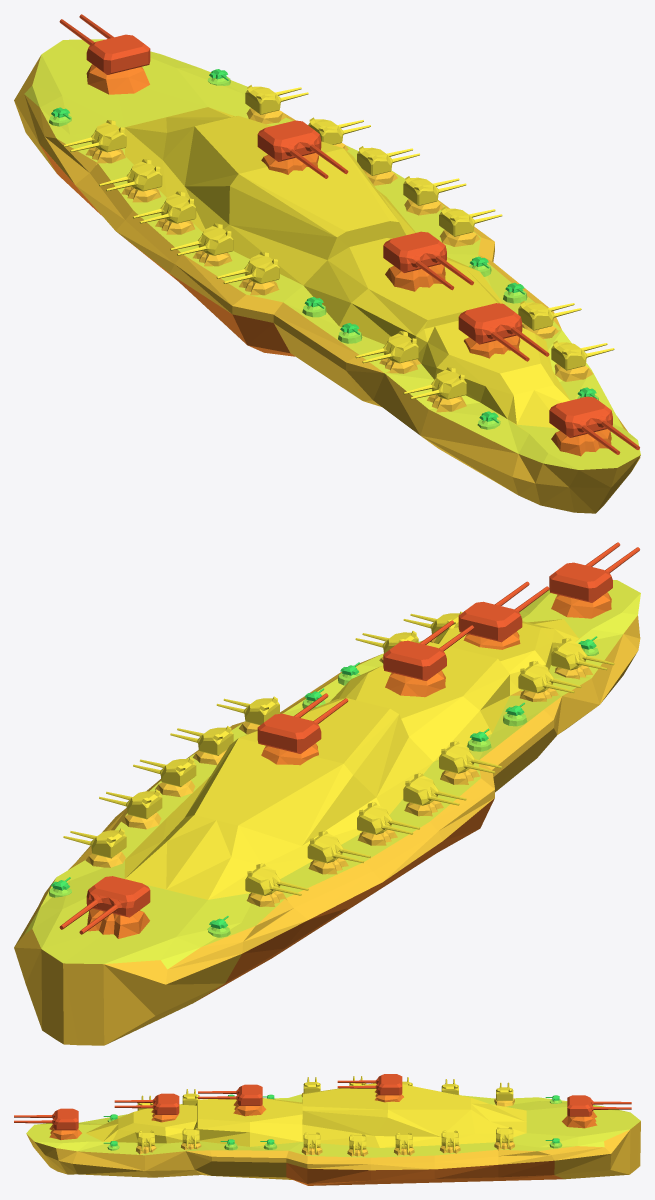
File: WW_Imperial_ArtilleryCruiser_R02_Barbet.fbx
3 renders of one model, top to bottom at view 1: azimuth 30°, elevation 25°; view 2: azimuth 150°, elevation 25°; view 3: azimuth 270°, elevation 25°, orthographic. The views are drawn at different scales.
Parts seen in each view (by area): view 1: Barbet_Cruiser_150m_Cube, WW_Turret_254mm_Twin_on_Barbet_Base_W_L, WW_Turret_254mm_Twin_on_Barbet_Base_W_L_003, WW_Turret_254mm_Twin_on_Barbet_Base_W_L_002, WW_Turret_254mm_Twin, WW_Turret_254mm_Twin_on_Barbet_Base_W_L_004, Barbet_Base_W_L.004, WW_Turret_100mm_Twin_PMK_on_Barbet_Base_W_M_011, WW_Turret_100mm_Twin_PMK_on_Barbet_Base_W_M_010, WW_Turret_100mm_Twin_PMK_on_Barbet_Base_W_M_012, WW_Turret_100mm_Twin_PMK, WW_Turret_100mm_Twin_PMK_on_Barbet_Base_W_M_008 (+11 smaller); view 2: Barbet_Cruiser_150m_Cube, WW_Turret_254mm_Twin_on_Barbet_Base_W_L_004, WW_Turret_254mm_Twin_on_Barbet_Base_W_L_003, WW_Turret_254mm_Twin, WW_Turret_254mm_Twin_on_Barbet_Base_W_L_002, WW_Turret_254mm_Twin_on_Barbet_Base_W_L, Barbet_Base_W_L.004, Barbet_Base_W_L.002, WW_Turret_100mm_Twin_PMK_on_Barbet_Base_W_M_012, Barbet_Base_W_L.001, WW_Turret_100mm_Twin_PMK_on_Barbet_Base_W_M_005, WW_Turret_100mm_Twin_PMK_on_Barbet_Base_W_M_008 (+10 smaller); view 3: Barbet_Cruiser_150m_Cube, WW_Turret_254mm_Twin, WW_Turret_254mm_Twin_on_Barbet_Base_W_L_003, WW_Turret_254mm_Twin_on_Barbet_Base_W_L, WW_Turret_254mm_Twin_on_Barbet_Base_W_L_004, WW_Turret_254mm_Twin_on_Barbet_Base_W_L_002, Barbet_Base_W_L.004, Barbet_Base_W_L.002, Barbet_Base_W_L.001, WW_Turret_100mm_Twin_PMK_on_Barbet_Base_W_M_006, WW_Turret_100mm_Twin_PMK_on_Barbet_Base_W_M_001, WW_Turret_100mm_Twin_PMK_on_Barbet_Base_W_M_002 (+9 smaller).
Part boxes in pixels (left/top/right/bottom): Barbet_Cruiser_150m_Cube: left=14, top=39, right=640, bottom=513; WW_Turret_254mm_Twin_on_Barbet_Base_W_L: left=458, top=303, right=549, bottom=361; WW_Turret_254mm_Twin_on_Barbet_Base_W_L_003: left=257, top=120, right=348, bottom=178; WW_Turret_254mm_Twin_on_Barbet_Base_W_L_002: left=383, top=231, right=473, bottom=290; WW_Turret_254mm_Twin: left=549, top=396, right=639, bottom=454; WW_Turret_254mm_Twin_on_Barbet_Base_W_L_004: left=59, top=14, right=150, bottom=74; Barbet_Base_W_L.004: left=86, top=64, right=149, bottom=94; WW_Turret_100mm_Twin_PMK_on_Barbet_Base_W_M_011: left=133, top=191, right=196, bottom=223; WW_Turret_100mm_Twin_PMK_on_Barbet_Base_W_M_010: left=170, top=223, right=233, bottom=255; WW_Turret_100mm_Twin_PMK_on_Barbet_Base_W_M_012: left=99, top=159, right=162, bottom=191; WW_Turret_100mm_Twin_PMK: left=403, top=367, right=466, bottom=399; WW_Turret_100mm_Twin_PMK_on_Barbet_Base_W_M_008: left=355, top=331, right=418, bottom=363; Barbet_Cruiser_150m_Cube: left=14, top=580, right=640, bottom=1045; WW_Turret_254mm_Twin_on_Barbet_Base_W_L_004: left=59, top=876, right=150, bottom=934; WW_Turret_254mm_Twin_on_Barbet_Base_W_L_003: left=257, top=693, right=348, bottom=753; WW_Turret_254mm_Twin: left=549, top=542, right=639, bottom=602; WW_Turret_254mm_Twin_on_Barbet_Base_W_L_002: left=383, top=620, right=473, bottom=680; WW_Turret_254mm_Twin_on_Barbet_Base_W_L: left=458, top=581, right=549, bottom=642; Barbet_Base_W_L.004: left=87, top=908, right=149, bottom=938; Barbet_Base_W_L.002: left=385, top=670, right=445, bottom=697; WW_Turret_100mm_Twin_PMK_on_Barbet_Base_W_M_012: left=307, top=831, right=370, bottom=863; Barbet_Base_W_L.001: left=551, top=592, right=611, bottom=618; WW_Turret_100mm_Twin_PMK_on_Barbet_Base_W_M_005: left=245, top=863, right=308, bottom=895; WW_Turret_100mm_Twin_PMK_on_Barbet_Base_W_M_008: left=518, top=661, right=581, bottom=693; Barbet_Cruiser_150m_Cube: left=26, top=1083, right=640, bottom=1185; WW_Turret_254mm_Twin: left=14, top=1108, right=78, bottom=1130; WW_Turret_254mm_Twin_on_Barbet_Base_W_L_003: left=337, top=1074, right=402, bottom=1095; WW_Turret_254mm_Twin_on_Barbet_Base_W_L: left=114, top=1093, right=179, bottom=1114; WW_Turret_254mm_Twin_on_Barbet_Base_W_L_004: left=567, top=1095, right=631, bottom=1116; WW_Turret_254mm_Twin_on_Barbet_Base_W_L_002: left=198, top=1084, right=262, bottom=1105; Barbet_Base_W_L.004: left=562, top=1111, right=597, bottom=1128; Barbet_Base_W_L.002: left=233, top=1100, right=266, bottom=1116; Barbet_Base_W_L.001: left=49, top=1124, right=81, bottom=1139; WW_Turret_100mm_Twin_PMK_on_Barbet_Base_W_M_006: left=137, top=1130, right=154, bottom=1151; WW_Turret_100mm_Twin_PMK_on_Barbet_Base_W_M_001: left=182, top=1128, right=199, bottom=1148; WW_Turret_100mm_Twin_PMK_on_Barbet_Base_W_M_002: left=349, top=1134, right=366, bottom=1154.
Size of the model in its own units: 55.74 by 29.38 by 189.
